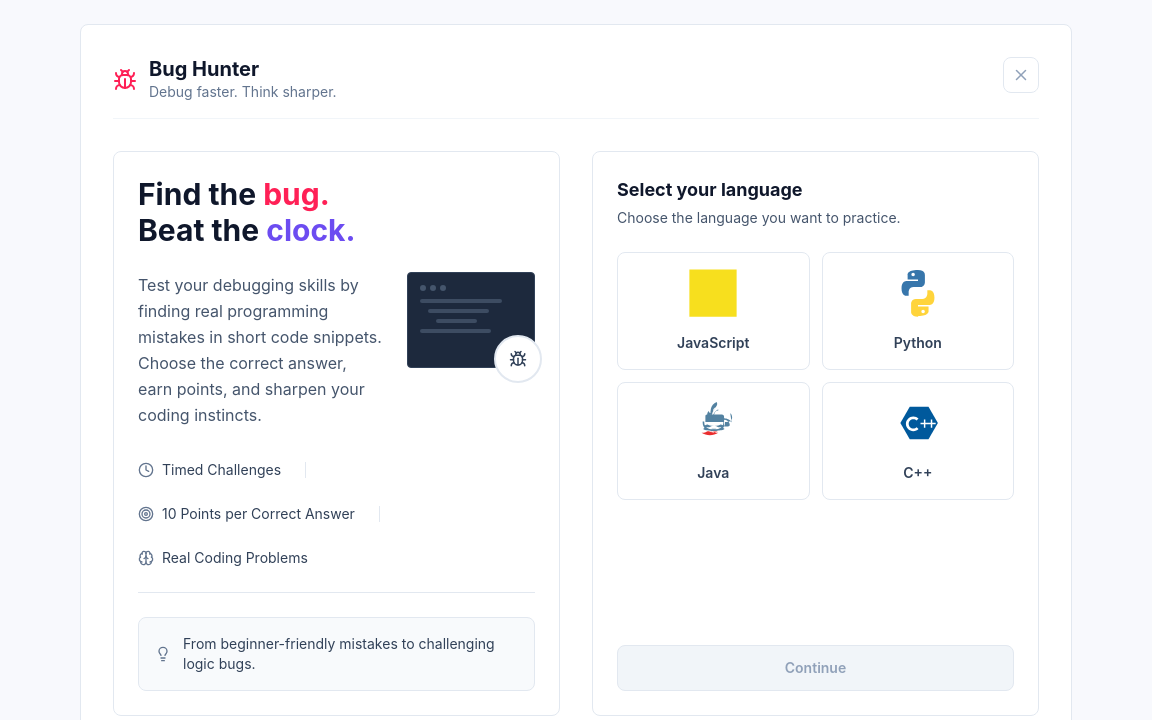
Test case: BugHunterGame › progresses to difficulty selection after choosing language
Click the button "JavaScript".
click(713, 311)  # box left=617, top=252, right=810, bottom=370
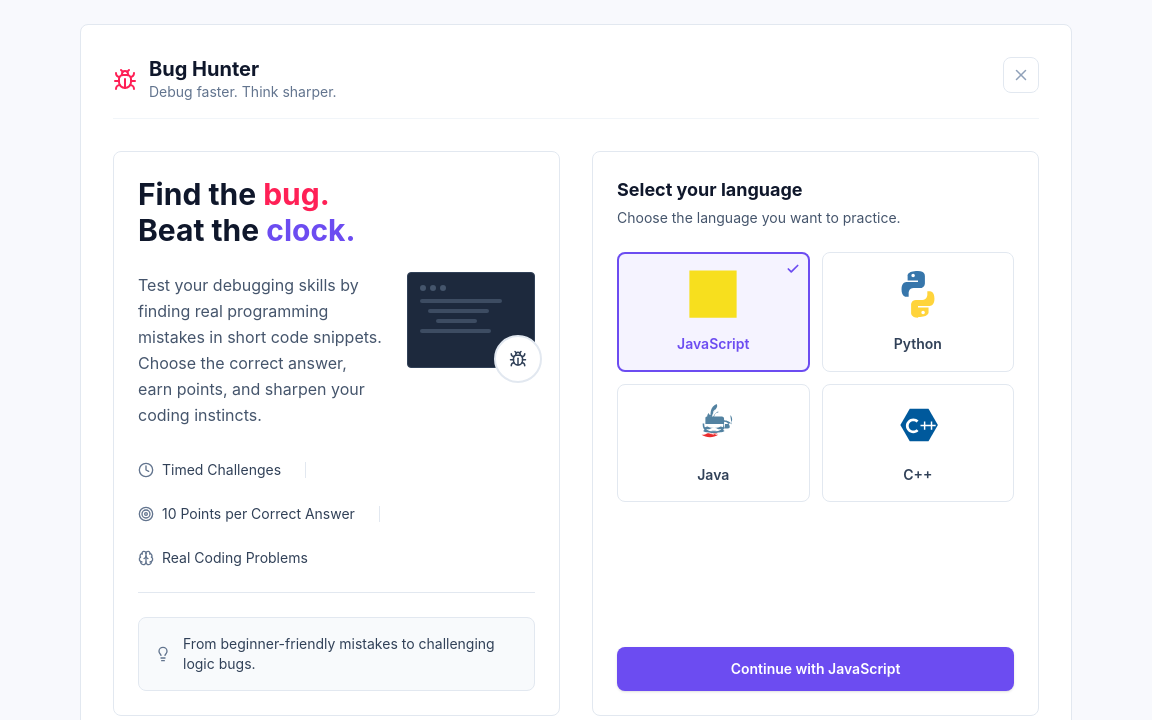
Click the button "Continue with JavaScript".
click(816, 669)  # box left=617, top=647, right=1014, bottom=691
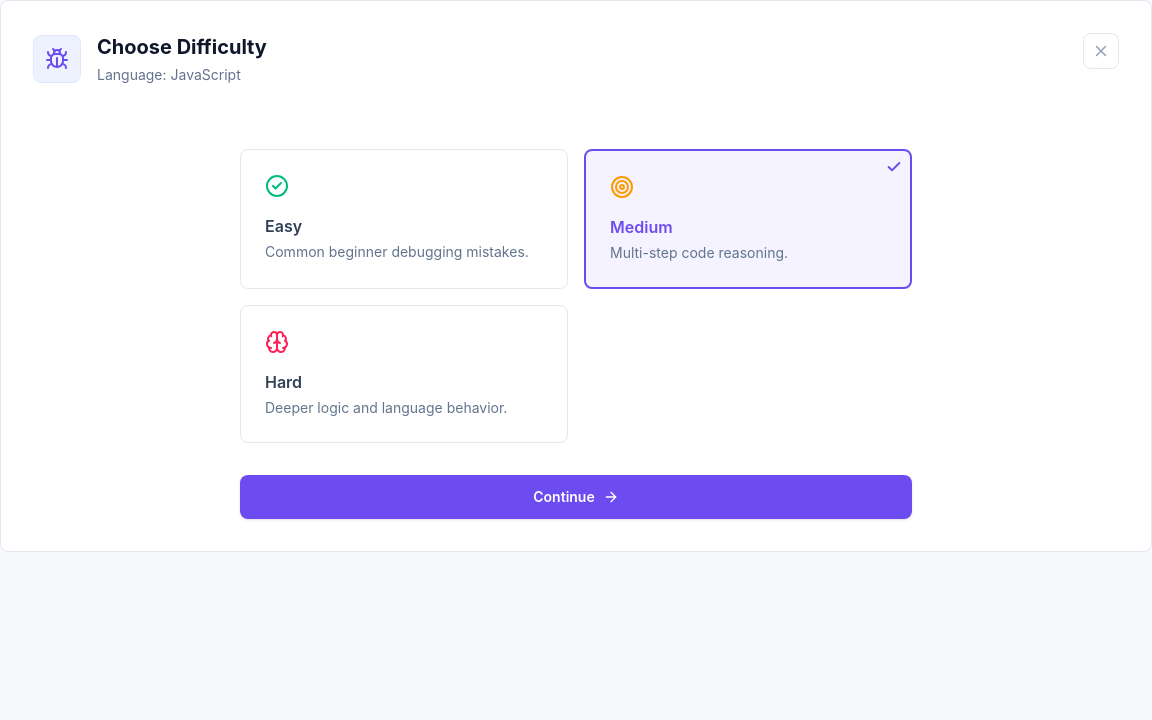
expect the heading "Choose Difficulty" is shown: met, box left=97, top=33, right=267, bottom=61
expect the text "Language: JavaScript" is shown: met, box left=97, top=66, right=241, bottom=83
expect the text "Easy" is shown: met, box left=265, top=214, right=302, bottom=238
